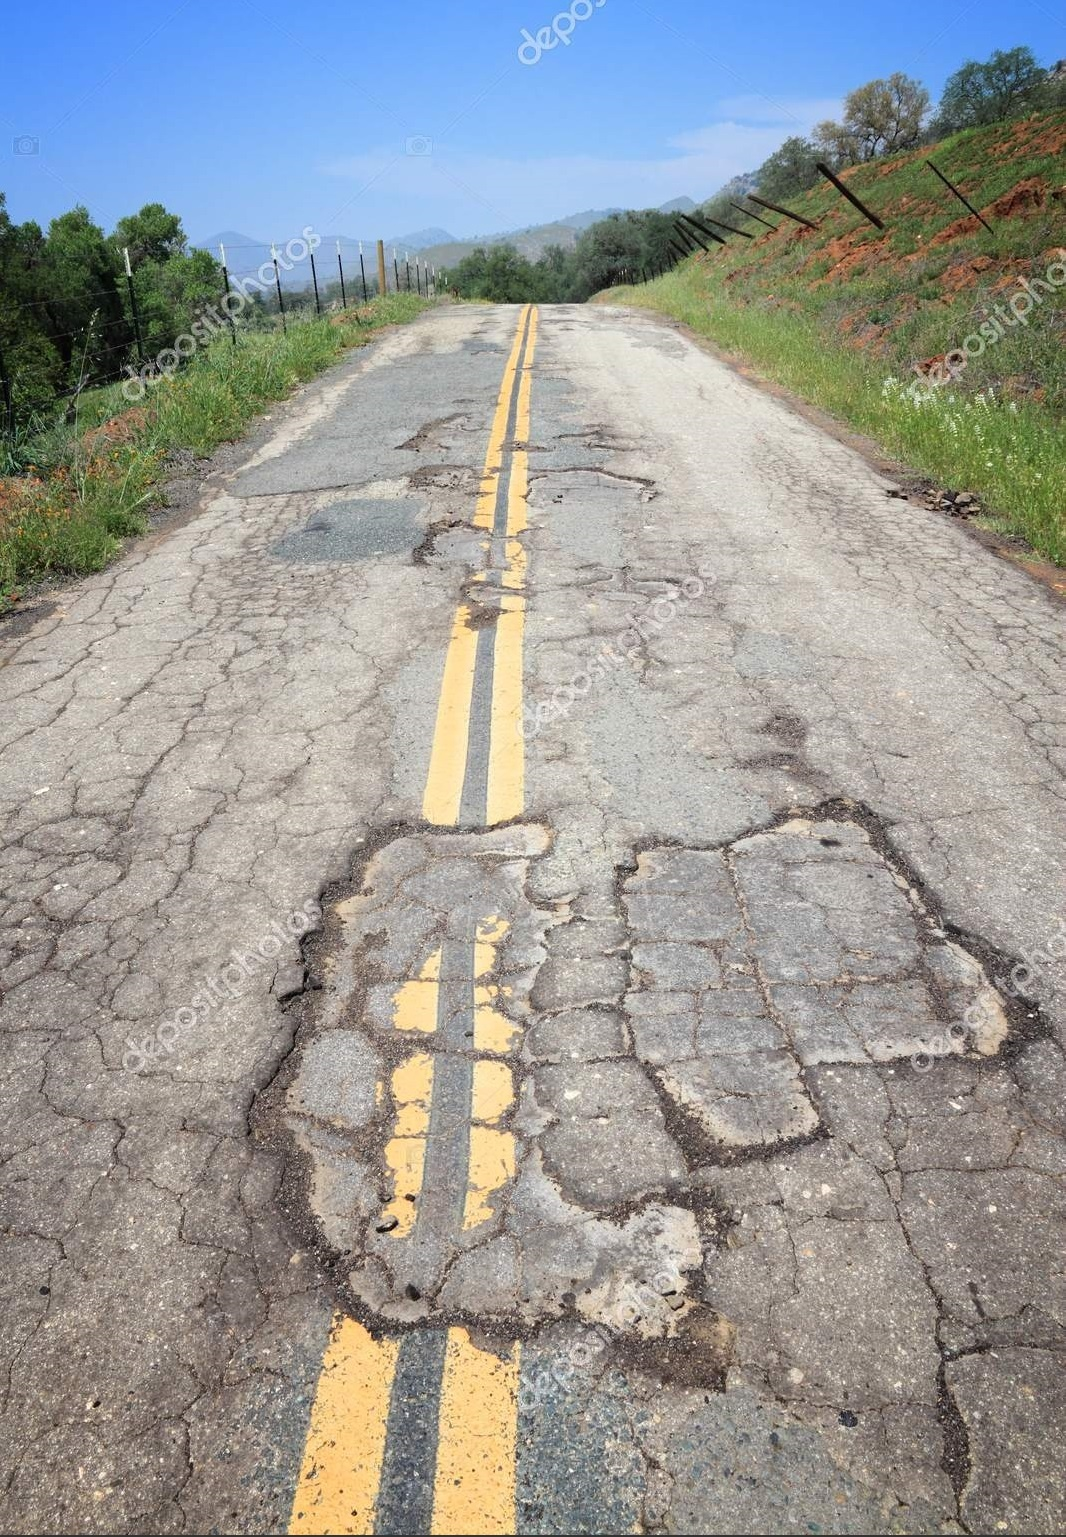pothole: (177, 715, 1020, 1386), (276, 308, 666, 655)
